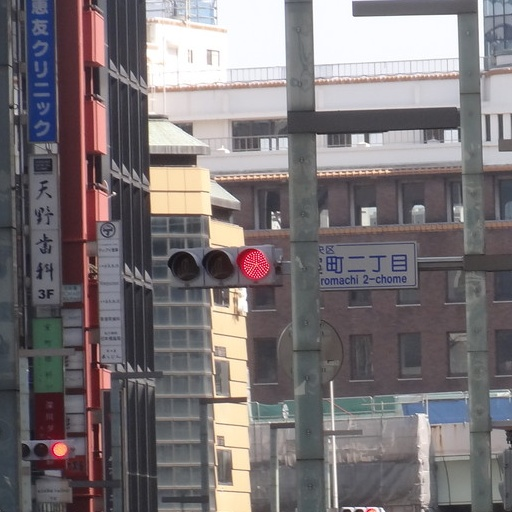Traffic_Signal_Red: (158, 240, 278, 289)
